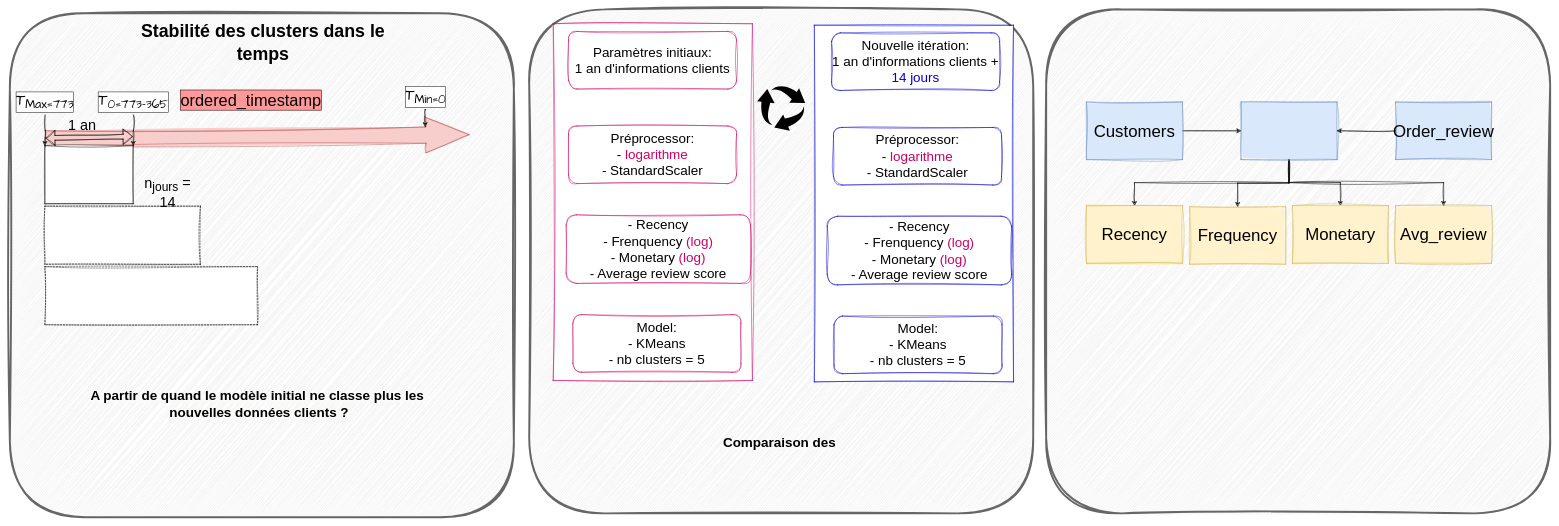
This 1559x526 diagram has some shape labels left out. Each missing label, with the centre of its shape:
"Clustering Initial M 0" belongs at pixel 88 174.
"Clustering T 0 +n jours M 1" belongs at pixel 122 235.
"Clustering T 1 +n jours M 2" belongs at pixel 151 295.
"Orders" belongs at pixel 1289 131.
